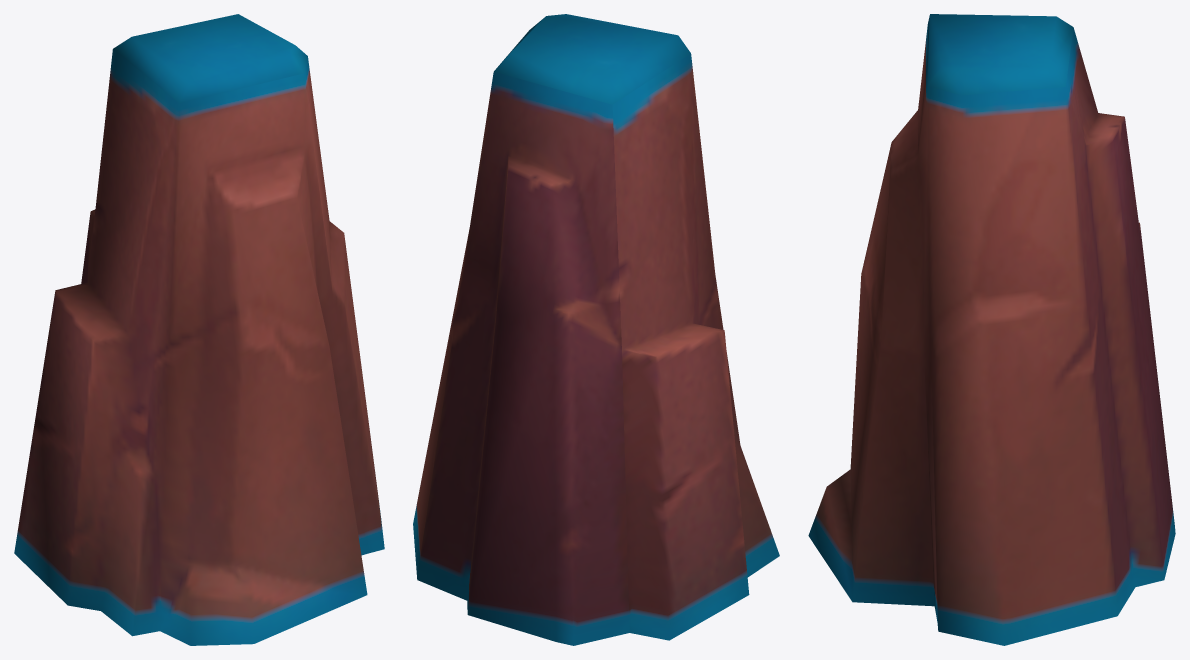
The model's file is nameikexingcunzhuang_shitou02.FBX.
The picture shows the model from 3 angles, left to right: view 1: azimuth 30°, elevation 25°; view 2: azimuth 150°, elevation 25°; view 3: azimuth 270°, elevation 25°; orthographic projection.
Parts seen in each view (by area): view 1: nameikexingcunzhuang_shitou02; view 2: nameikexingcunzhuang_shitou02; view 3: nameikexingcunzhuang_shitou02.
Part boxes in pixels (left/top/right/bottom): nameikexingcunzhuang_shitou02: left=14, top=14, right=384, bottom=645; nameikexingcunzhuang_shitou02: left=413, top=14, right=779, bottom=645; nameikexingcunzhuang_shitou02: left=808, top=14, right=1175, bottom=645.
Bounding box in the file's own units: 300 × 457 × 292.
